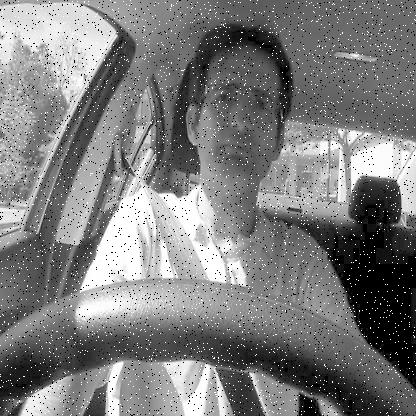seatbelt: (107, 17, 310, 280)
